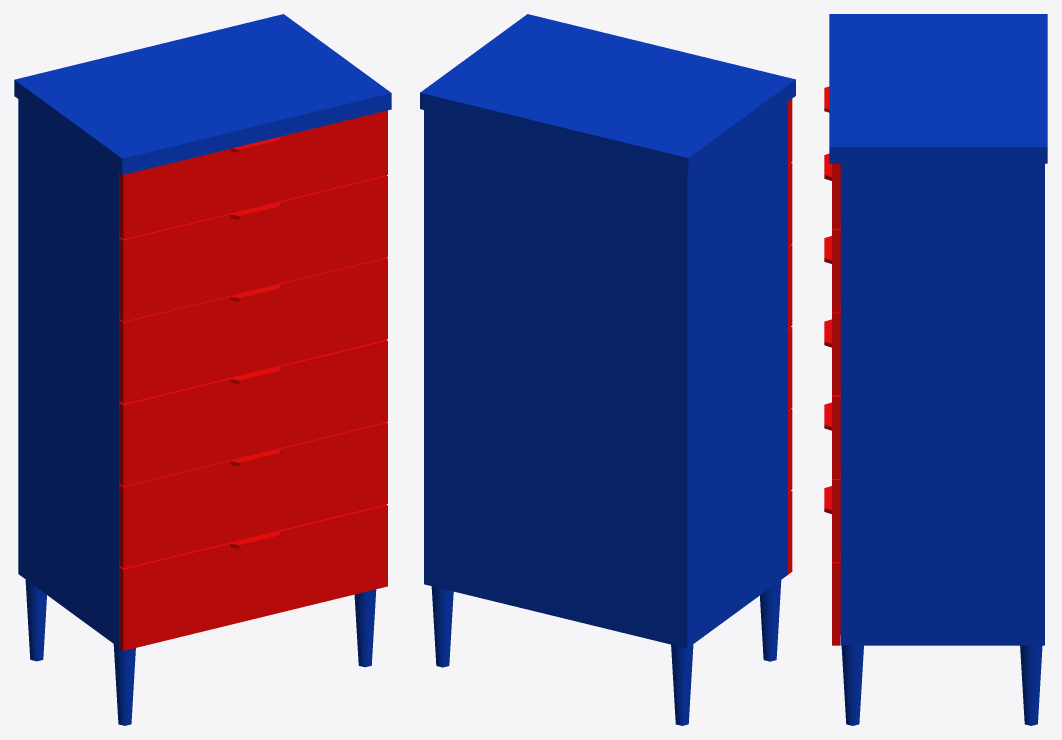
File: Dresser_02_LOD.FBX
3 views of the same model, side by side, from view 1: azimuth 30°, elevation 25°; view 2: azimuth 150°, elevation 25°; view 3: azimuth 270°, elevation 25° (orthographic).
Parts seen in each view (by area): view 1: Sides, Drawer03 (×3), Drawer02 (×3), Top, Drawer06 (×3), Drawer04 (×3), Drawer01 (×3), Drawer05 (×3), Foot02, Foot01, Foot04; view 2: Sides, Top, Foot04, Foot03, Foot02; view 3: Sides, Top, Foot03, Foot01, Drawer03 (×2), Drawer06 (×2), Drawer04, Drawer05, Drawer02, Drawer01.
Boxes of the visible parts, <box> form: Sides: <box>18,99,120,647</box>; Drawer03 (×3): <box>119,257,387,403</box>; Drawer02 (×3): <box>119,175,387,321</box>; Top: <box>14,14,391,174</box>; Drawer06 (×3): <box>119,504,387,650</box>; Drawer04 (×3): <box>119,339,387,486</box>; Drawer01 (×3): <box>119,110,387,239</box>; Drawer05 (×3): <box>119,422,387,568</box>; Foot02: <box>113,644,135,725</box>; Foot01: <box>354,589,376,667</box>; Foot04: <box>25,580,46,661</box>; Sides: <box>424,102,787,648</box>; Top: <box>420,14,795,174</box>; Foot04: <box>671,644,693,725</box>; Foot03: <box>431,586,453,667</box>; Foot02: <box>760,580,781,661</box>; Sides: <box>840,163,1044,645</box>; Top: <box>829,14,1047,163</box>; Foot03: <box>1020,645,1042,725</box>; Foot01: <box>841,645,863,725</box>; Drawer03 (×2): <box>824,236,840,395</box>; Drawer06 (×2): <box>824,486,840,645</box>; Drawer04: <box>824,319,840,478</box>; Drawer05: <box>824,402,840,561</box>; Drawer02: <box>824,153,840,312</box>; Drawer01: <box>824,86,840,228</box>.
Size of the model in its own units: 0.6213 by 1.27 by 0.4411.
